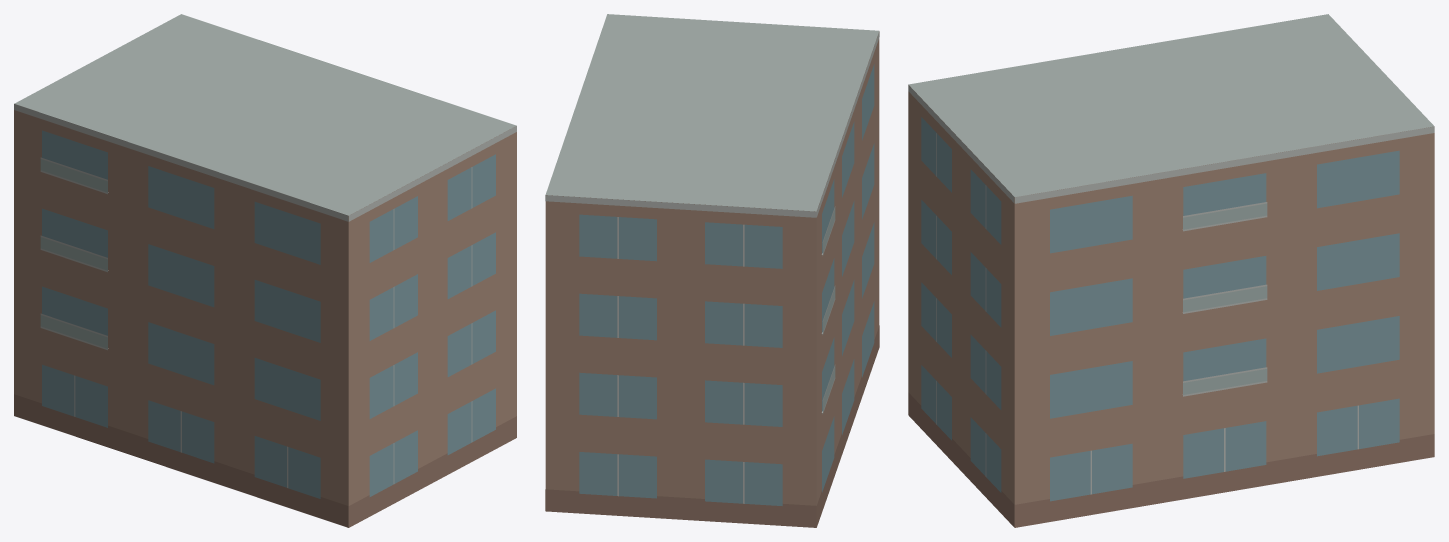
The model's file is survey-upis-32968445.glb.
3 renders of one model, left to right at view 1: azimuth 30°, elevation 25°; view 2: azimuth 150°, elevation 25°; view 3: azimuth 270°, elevation 25°, orthographic. The views are drawn at different scales.
Parts seen in each view (by area): view 1: survey-upis-32968445.tmp; view 2: survey-upis-32968445.tmp; view 3: survey-upis-32968445.tmp.
Part boxes in pixels (bbox=[...]): survey-upis-32968445.tmp: bbox=[14, 14, 516, 527]; survey-upis-32968445.tmp: bbox=[545, 14, 879, 527]; survey-upis-32968445.tmp: bbox=[908, 14, 1434, 527].
Bounding box in the file's own units: 14.63 × 12.3 × 17.76.
